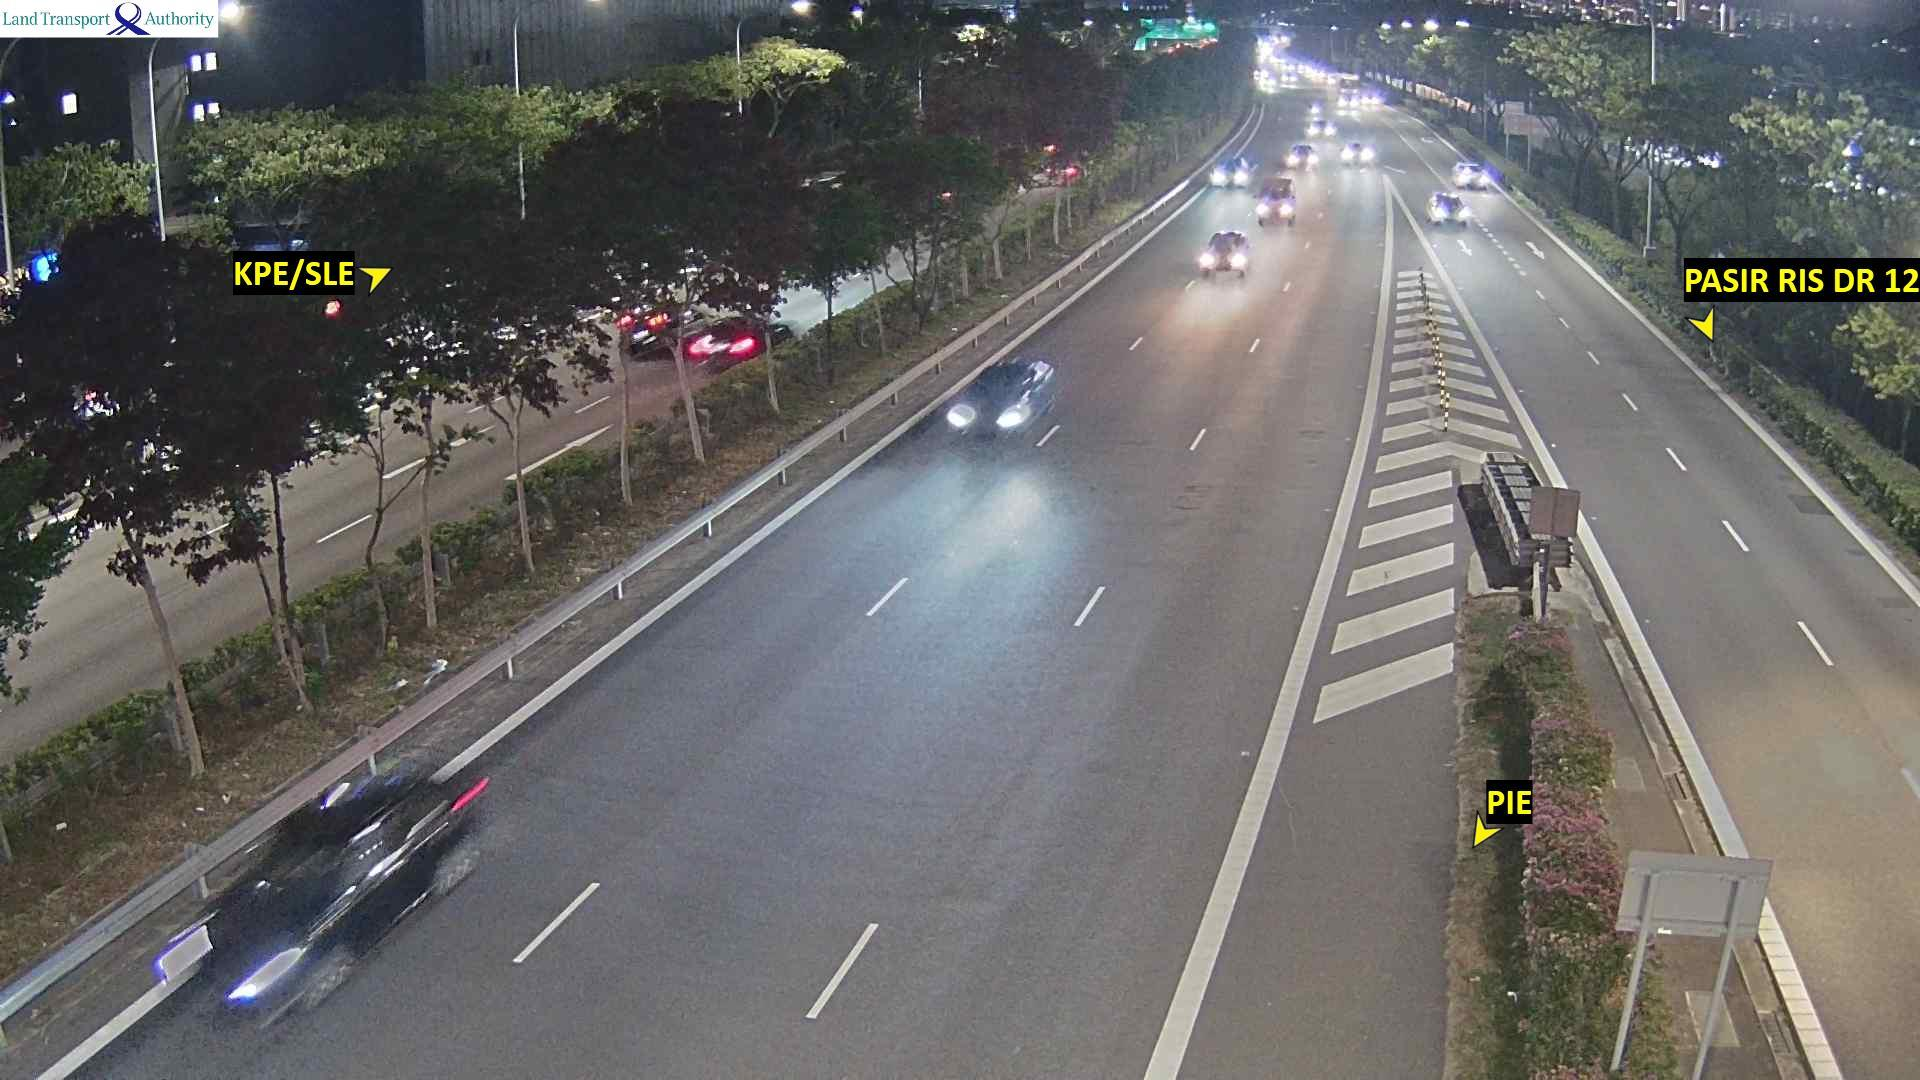cars: (153, 746, 491, 1032), (944, 355, 1058, 439), (679, 313, 792, 368), (616, 299, 703, 356), (1196, 229, 1250, 279), (1254, 175, 1297, 225), (1425, 189, 1471, 228), (1208, 153, 1255, 187), (1451, 159, 1487, 189), (1339, 138, 1376, 166), (1284, 142, 1318, 170), (1304, 113, 1336, 139), (1251, 67, 1276, 94), (1333, 97, 1362, 113), (1360, 95, 1389, 106)
trucks: (1478, 449, 1580, 577)
